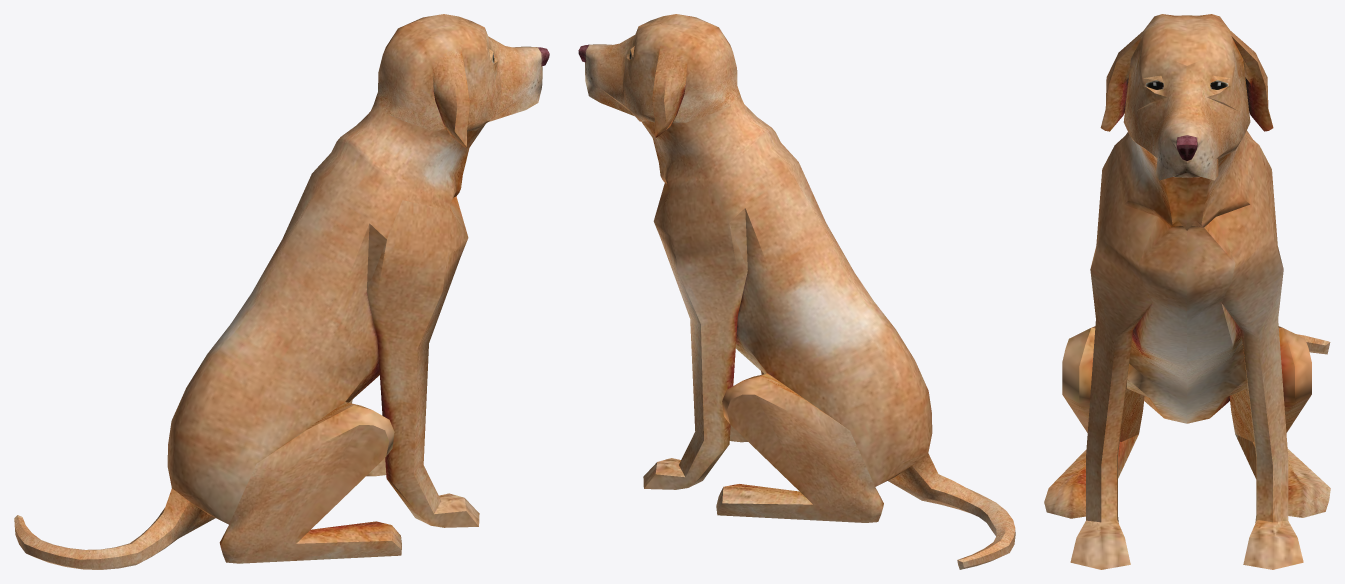
Rendered from pes_hnedy.glb.
3 views of the same model, side by side, from view 1: azimuth 30°, elevation 25°; view 2: azimuth 150°, elevation 25°; view 3: azimuth 270°, elevation 25° (orthographic). The views are drawn at different scales.
Bounding box in the file's own units: 0.6091 × 0.55 × 0.2615.
Materials: 1 (1 with a texture image).
